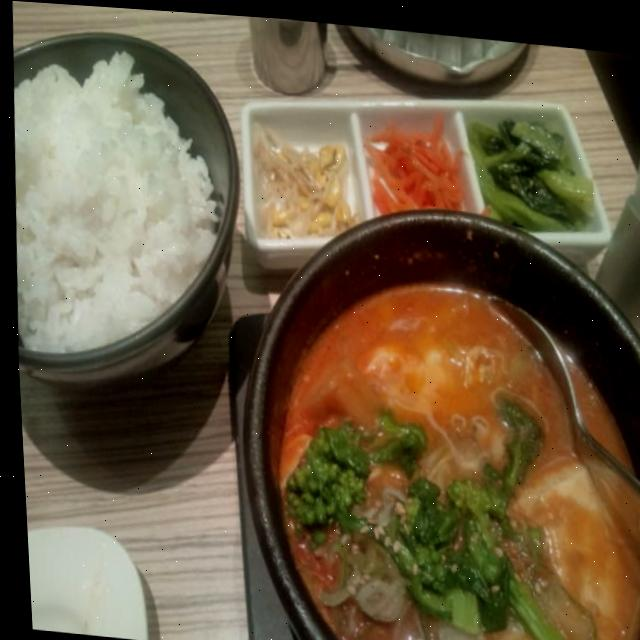米饭主食: (1, 28, 229, 372)
